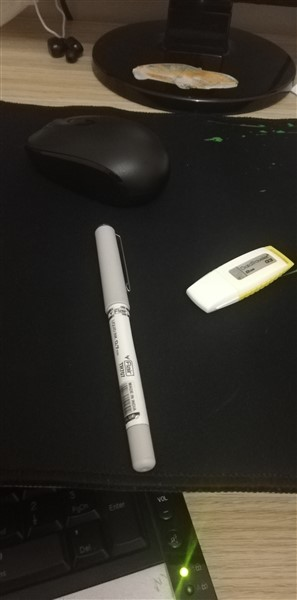flash disk: (182, 242, 296, 317)
klavye: (1, 479, 225, 597)
mouse: (20, 101, 182, 207)
pilot kalem: (85, 224, 172, 476)
